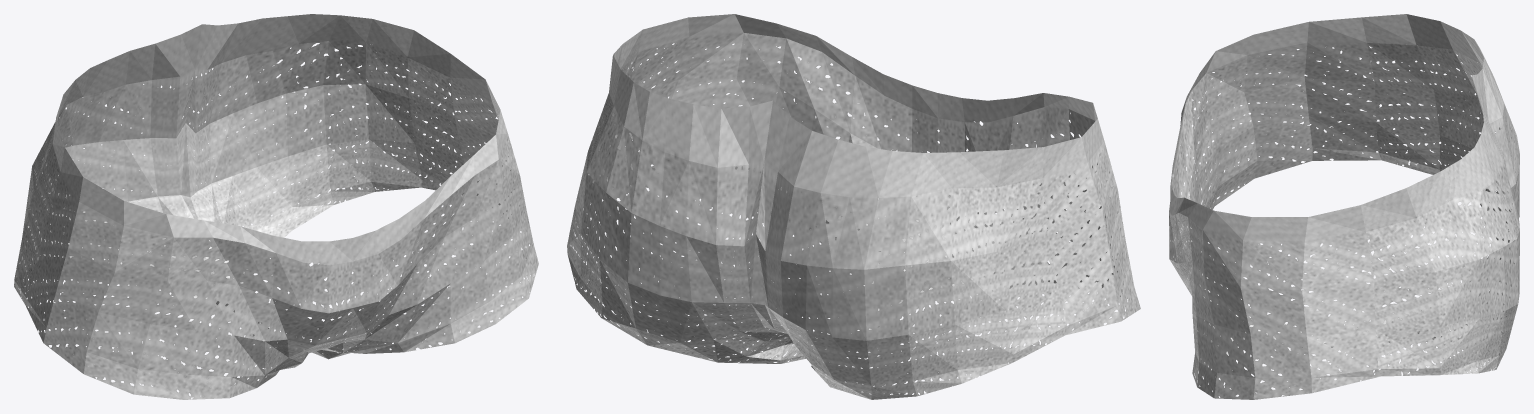
File: mhw_elvs_crude_bootyshorts.glb
3 views of the same model, side by side, from view 1: azimuth 30°, elevation 25°; view 2: azimuth 150°, elevation 25°; view 3: azimuth 270°, elevation 25° (orthographic). The views are drawn at different scales.
Visible parts, largest first — view 1: mhw_elvs_crude_bootyshorts; view 2: mhw_elvs_crude_bootyshorts; view 3: mhw_elvs_crude_bootyshorts.
Boxes of the visible parts, x1=… form: mhw_elvs_crude_bootyshorts: x1=14, y1=14, x2=538, y2=399; mhw_elvs_crude_bootyshorts: x1=567, y1=14, x2=1140, y2=399; mhw_elvs_crude_bootyshorts: x1=1169, y1=14, x2=1519, y2=399.
Size of the model in its own units: 0.3791 by 0.2076 by 0.2421.
1 material, 1 textured.
